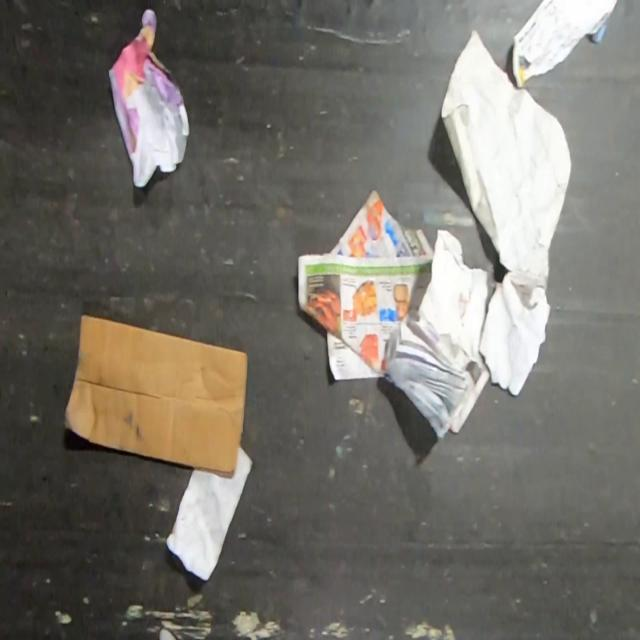cardboard: (64, 313, 249, 475)
